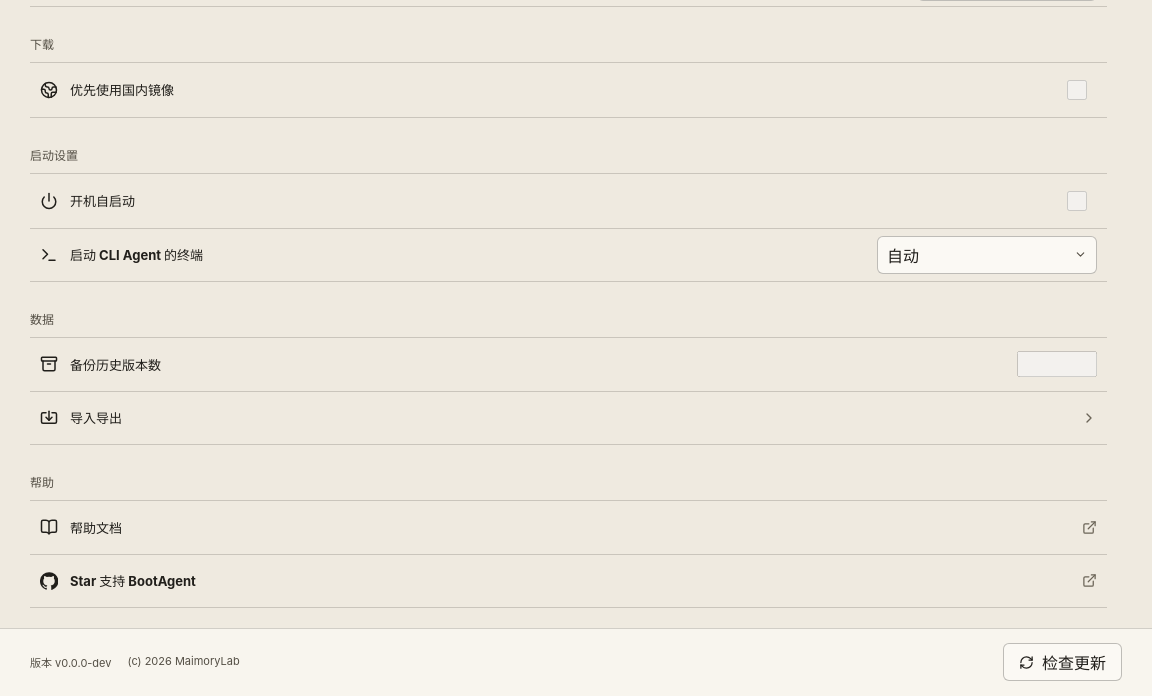
SettingsPage › reports a browser that could not be opened
The width and height of the screenshot is (1152, 696).
(page scrolled)
Click the button "帮助文档" at (96, 528), box [30,500,1107,554]
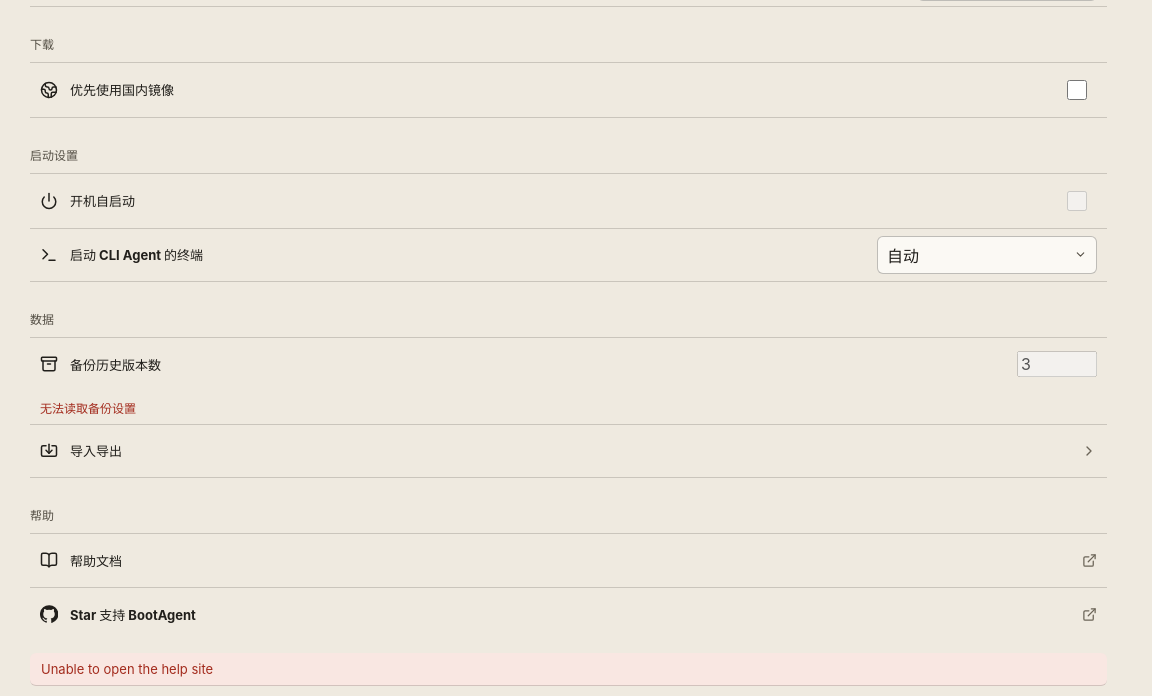
Check: the text "Unable to open the help site" is shown, box [30,653,1107,686]
